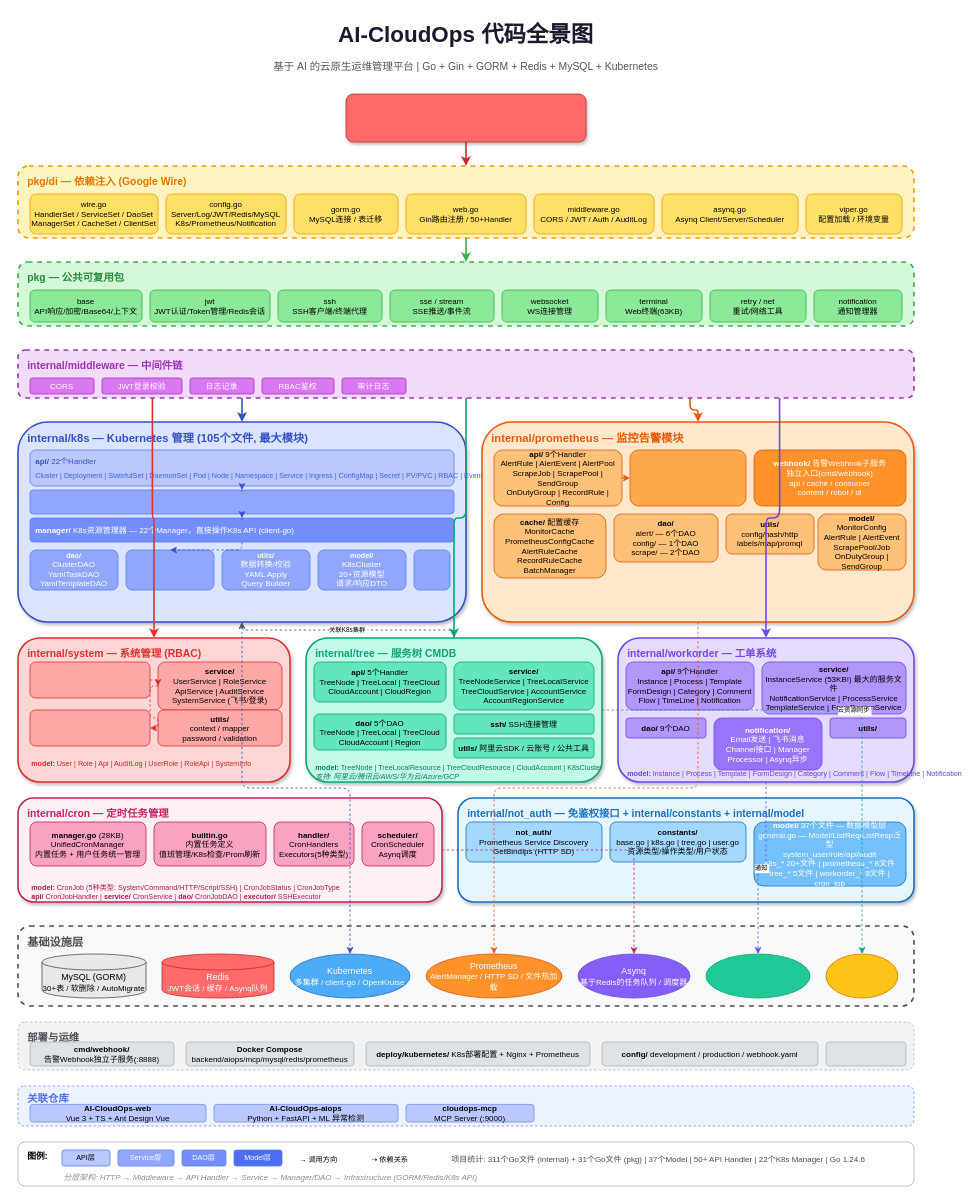
Image size: 975x1200. Some labels were removed from this diagram. Each missing label, with the centre of its shape:
api/ 5个Handler User | Role | Api | Audit | System: (89,679)
client/ K8sClient 多集群管理 client-go封装: (169,569)
dao/ UserDAO | RoleDAO ApiDAO | AuditDAO: (89,727)
main.go 服务入口 启动HTTP服务 / Cron管理器 / Asynq队列: (466,119)
mock/ 初始数据: (865,1053)
service/ alert/ — 6个服务 scrape/ — 2个服务 config/ — 1个服务 yaml/ — 配置生成: (687,477)
service/ 业务逻辑层 — 22个Service，处理CRUD、K8s API调用、状态管理: (241,501)
startup/ Bootstrap K8s客户端初始化: (431,569)
阿里云SDK 云资源同步: (861,975)
飞书 / 邮件 通知渠道 / OAuth登录: (757,975)
